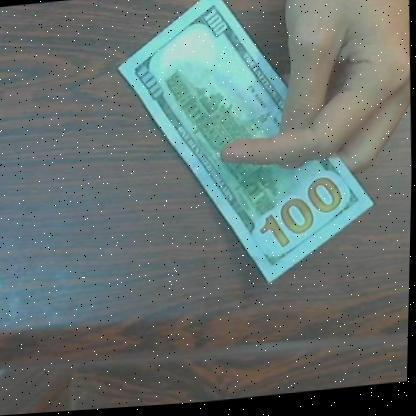one_hundred-back: (106, 0, 386, 304)
